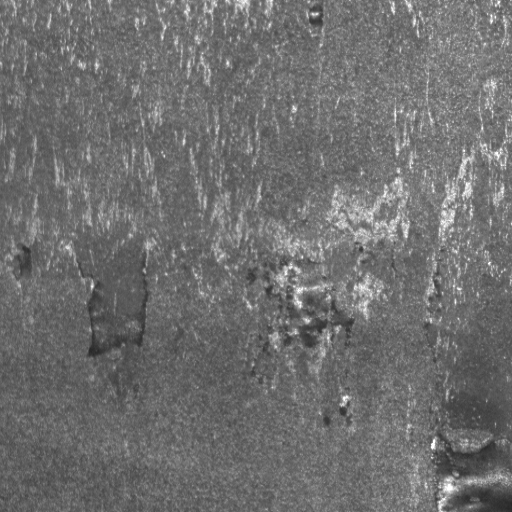qiaopi: (72, 245, 154, 362), (429, 428, 512, 512)
